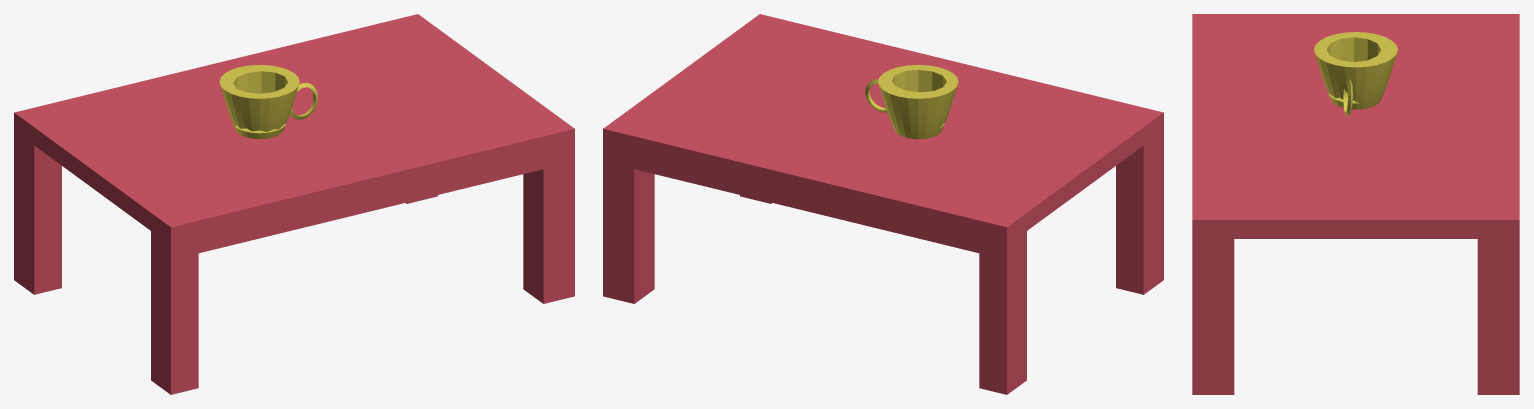
3 renders of one model, left to right at view 1: azimuth 30°, elevation 25°; view 2: azimuth 150°, elevation 25°; view 3: azimuth 270°, elevation 25°, orthographic. The views are drawn at different scales.
Parts seen in each view (by area): view 1: Mesh_Mesh_head_geo.001_lambert2SG.001; view 2: Mesh_Mesh_head_geo.001_lambert2SG.001; view 3: Mesh_Mesh_head_geo.001_lambert2SG.001.
Part boxes in pixels (left/top/right/bottom): Mesh_Mesh_head_geo.001_lambert2SG.001: left=14, top=14, right=574, bottom=394; Mesh_Mesh_head_geo.001_lambert2SG.001: left=603, top=14, right=1163, bottom=394; Mesh_Mesh_head_geo.001_lambert2SG.001: left=1192, top=14, right=1519, bottom=394.
Size of the model in its own units: 116 by 59 by 78.
